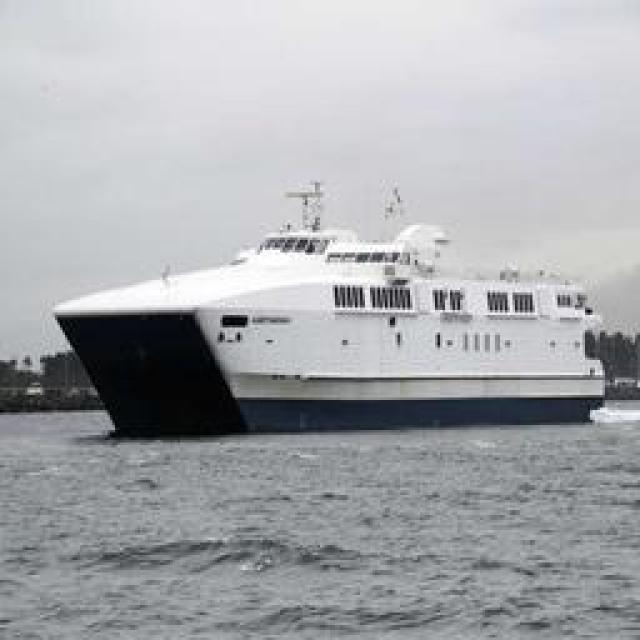ship2: (52, 178, 606, 441)
